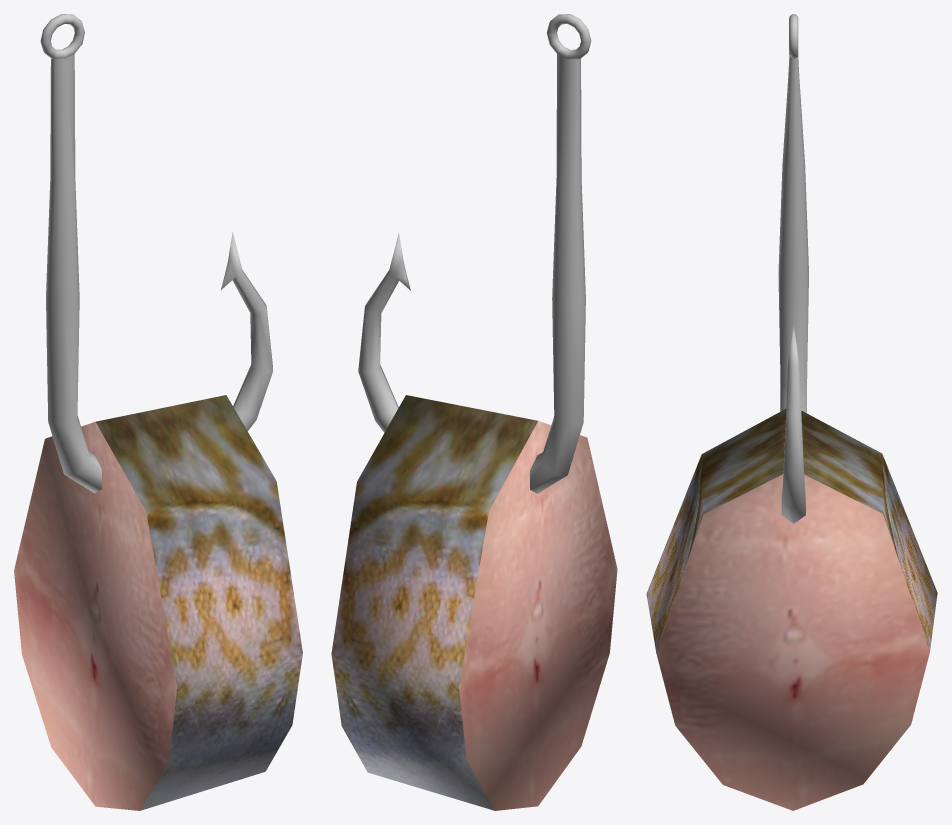
The model's file is Bait_PacificCod.fbx.
3 renders of one model, left to right at view 1: azimuth 30°, elevation 25°; view 2: azimuth 150°, elevation 25°; view 3: azimuth 270°, elevation 25°, orthographic. The views are drawn at different scales.
Visible parts, largest first — view 1: Bait_PacificCod; view 2: Bait_PacificCod; view 3: Bait_PacificCod.
Part boxes in pixels (<box>): Bait_PacificCod: <box>14,14,302,810</box>; Bait_PacificCod: <box>331,14,617,810</box>; Bait_PacificCod: <box>646,14,937,810</box>.
Size of the model in its own units: 0.2116 by 0.697 by 0.254.
